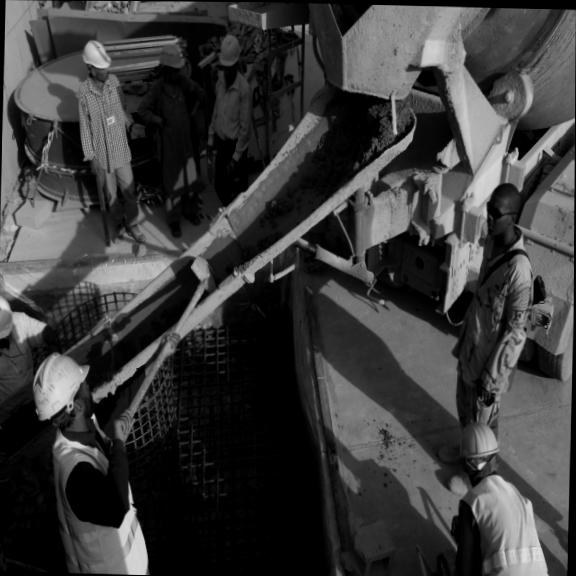no_safety_vest: (451, 237, 536, 378), (74, 74, 137, 169), (148, 74, 199, 161), (209, 68, 253, 146)
safety_vest: (45, 424, 150, 575), (448, 475, 557, 576)
